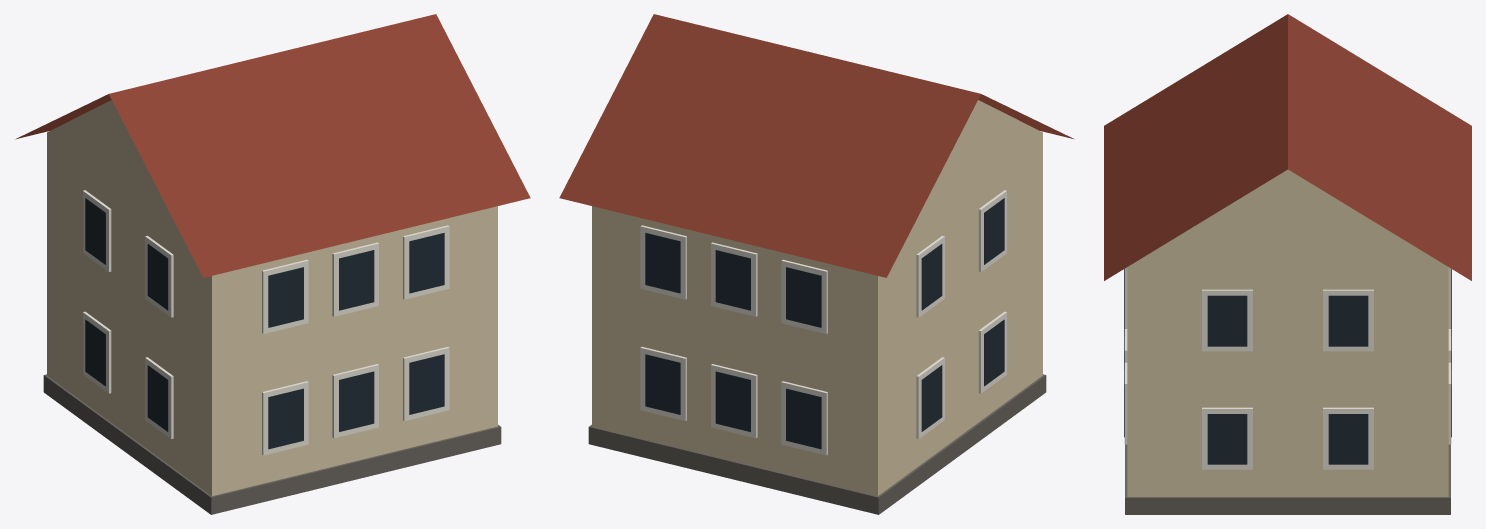
File: two_storey_cream.glb
The picture shows the model from 3 angles, left to right: view 1: azimuth 30°, elevation 25°; view 2: azimuth 150°, elevation 25°; view 3: azimuth 270°, elevation 25°; orthographic projection. The views are drawn at different scales.
Parts seen in each view (by area): view 1: two_storey_cream; view 2: two_storey_cream; view 3: two_storey_cream.
Boxes of the visible parts, <box> form: two_storey_cream: <box>15,14,530,514</box>; two_storey_cream: <box>559,14,1074,514</box>; two_storey_cream: <box>1104,14,1471,514</box>.
Size of the model in its own units: 7.9 by 8.4 by 7.9.
